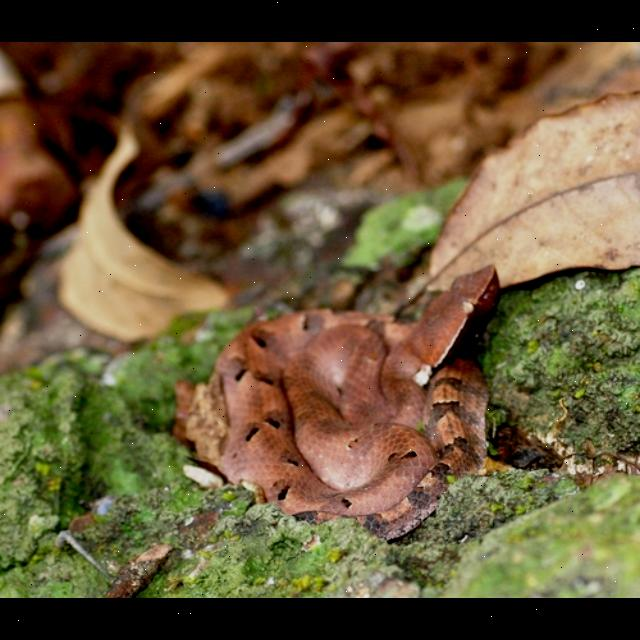snake: (170, 260, 516, 534), (165, 274, 168, 274)
